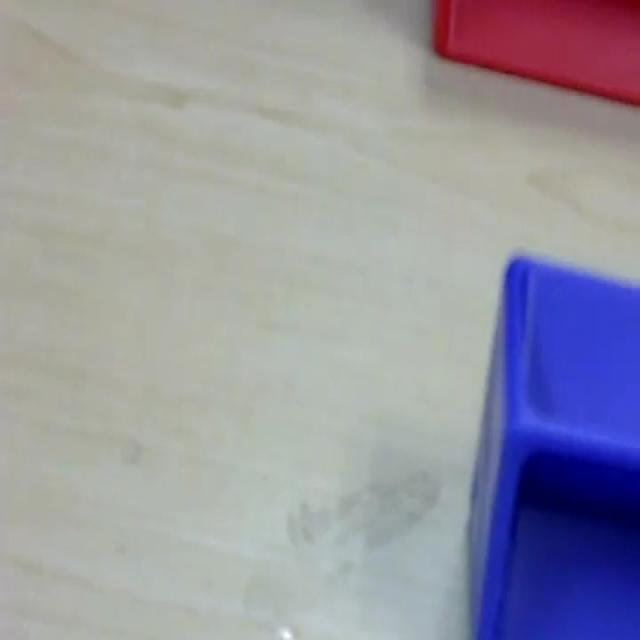blue_block: (466, 248, 638, 636)
red_block: (431, 0, 638, 107)
